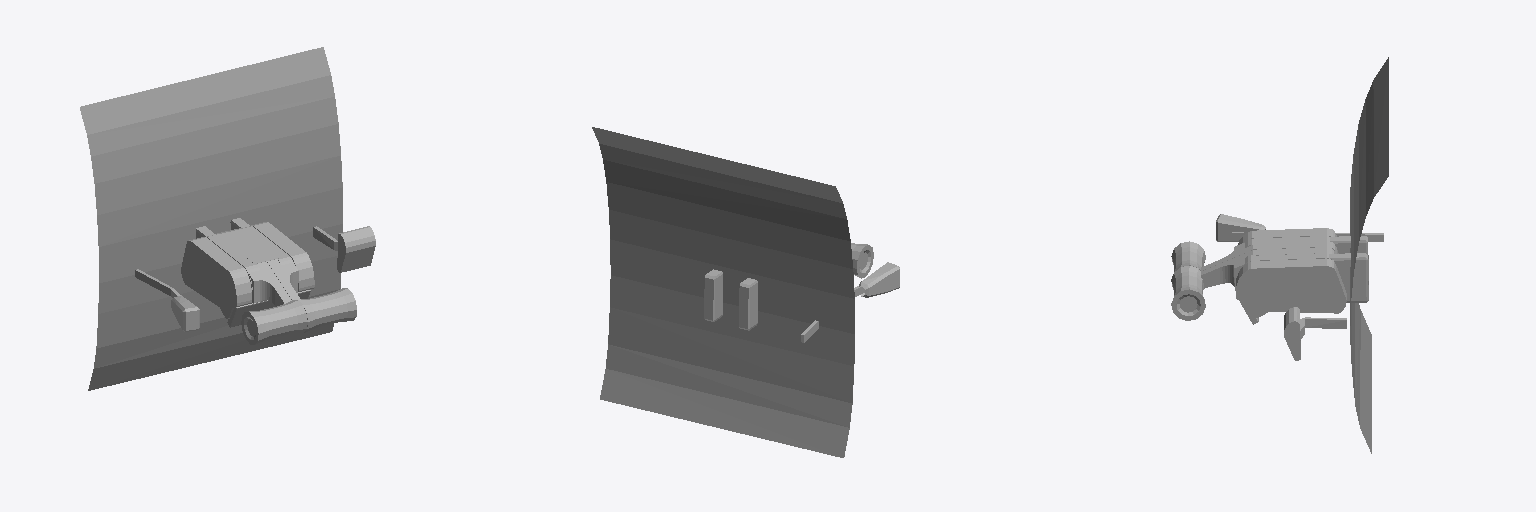
Rendered from knobs3D.obj.
3 views of the same model, side by side, from view 1: azimuth 30°, elevation 25°; view 2: azimuth 150°, elevation 25°; view 3: azimuth 270°, elevation 25° (orthographic).
Parts seen in each view (by area): view 1: Base, Throttle_LHThrottle, Flaps_FlapLever, SpeedBrake_SpdBrkLever; view 2: Base, Throttle_LHThrottle, SpeedBrake_SpdBrkLever; view 3: Throttle_LHThrottle, Base, Flaps_FlapLever, SpeedBrake_SpdBrkLever.
Part boxes in pixels (x1,y1,x2,y2): Base: (80,47,342,390); Throttle_LHThrottle: (181,218,356,344); Flaps_FlapLever: (313,226,375,272); SpeedBrake_SpdBrkLever: (135,269,199,331); Base: (592,127,854,457); Throttle_LHThrottle: (704,243,873,330); SpeedBrake_SpdBrkLever: (801,262,899,342); Throttle_LHThrottle: (1171,228,1368,324); Base: (1350,57,1388,453); Flaps_FlapLever: (1284,307,1346,360); SpeedBrake_SpdBrkLever: (1216,214,1383,241).
Bounding box in the file's own units: 3.05 × 3.33 × 2.35.